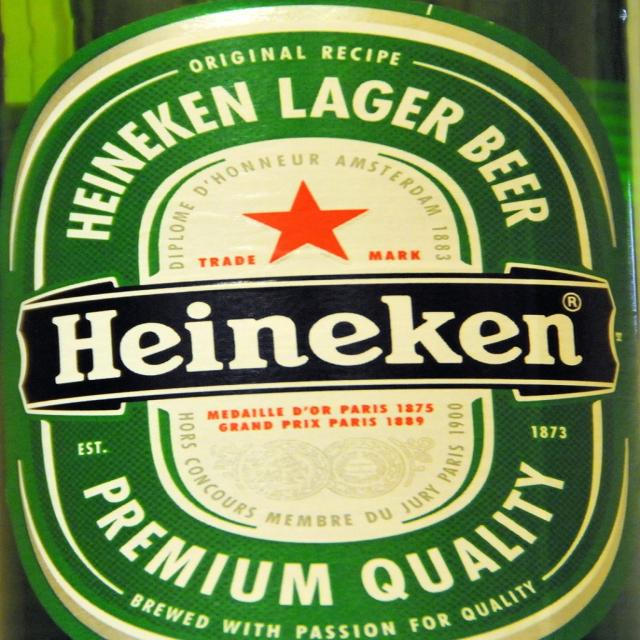heineken: (2, 2, 640, 640)
